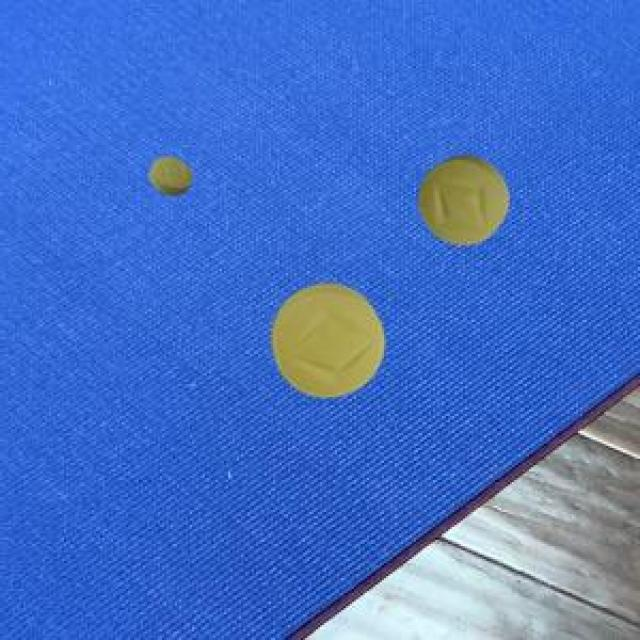Decolgen: (259, 271, 395, 406), (407, 138, 517, 257), (140, 140, 197, 206)
